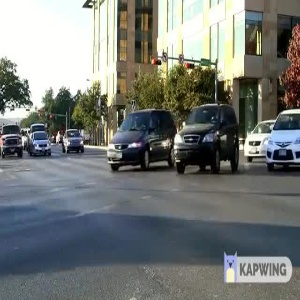suv: (170, 99, 245, 171)
van: (103, 106, 182, 172)
